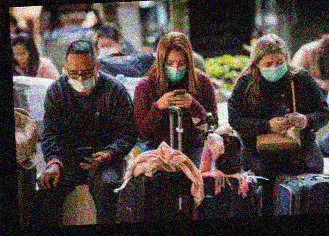with_mask: (67, 66, 98, 94), (260, 57, 289, 82), (164, 56, 189, 83), (97, 40, 118, 55)
without_mask: (13, 47, 30, 68)
